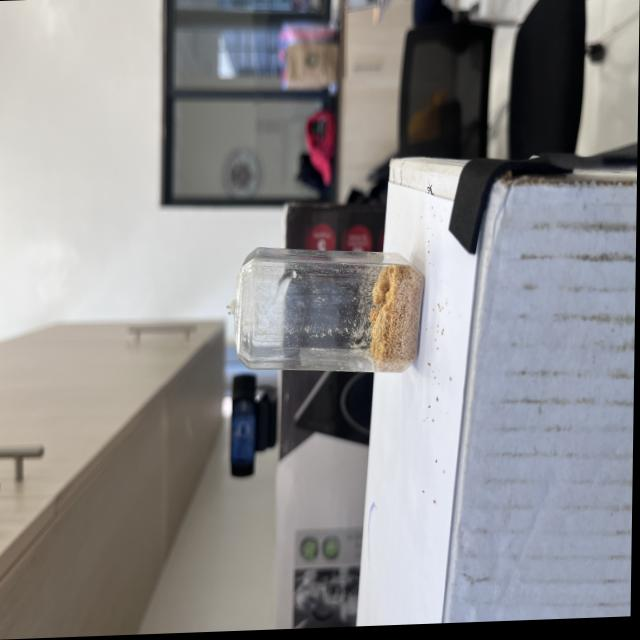garlic_powder: (369, 260, 424, 379)
